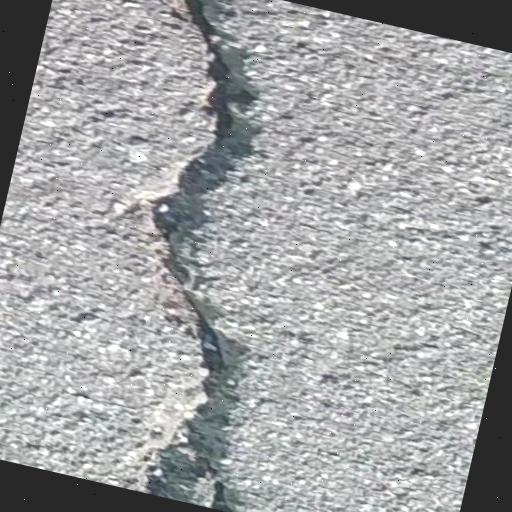spalling: (115, 0, 268, 512)
